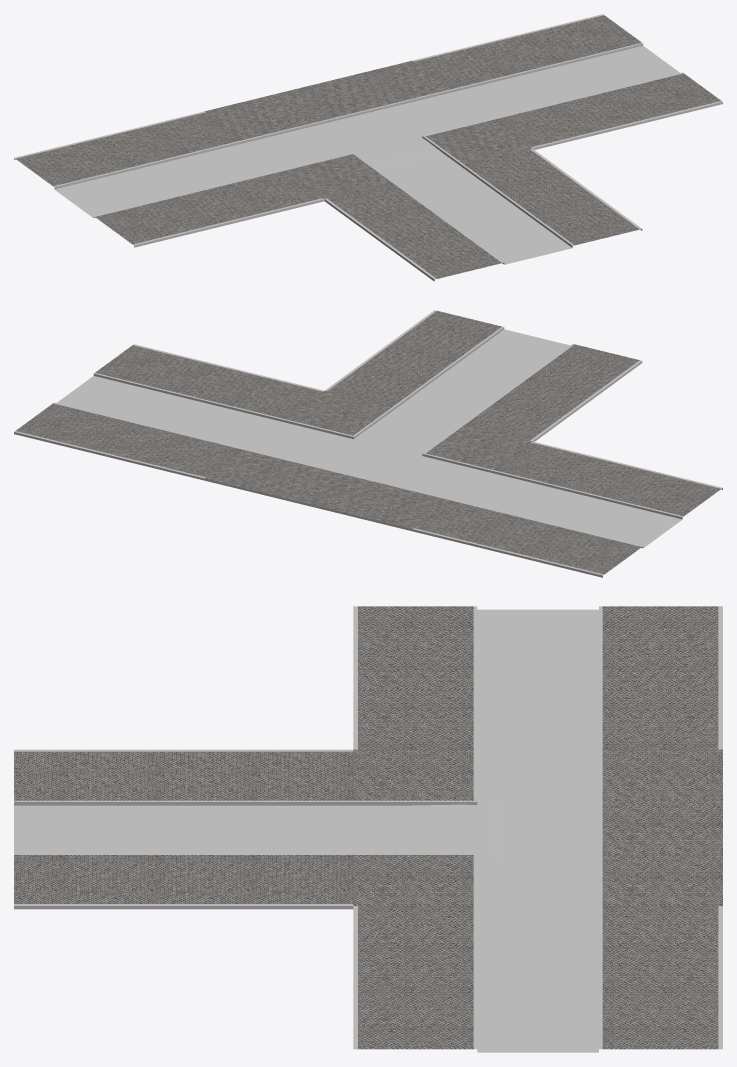
The model's file is ec_road_t.fbx.
The picture shows the model from 3 angles, top to bottom: view 1: azimuth 30°, elevation 25°; view 2: azimuth 150°, elevation 25°; view 3: azimuth 270°, elevation 25°; orthographic projection. The views are drawn at different scales.
Parts seen in each view (by area): view 1: Mesh; view 2: Mesh; view 3: Mesh.
Boxes of the visible parts, x1=… form: Mesh: x1=14, y1=14, x2=722, y2=281; Mesh: x1=14, y1=310, x2=722, y2=577; Mesh: x1=14, y1=606, x2=722, y2=1052.
Bounding box in the file's own units: 6978 × 27 × 4719.
